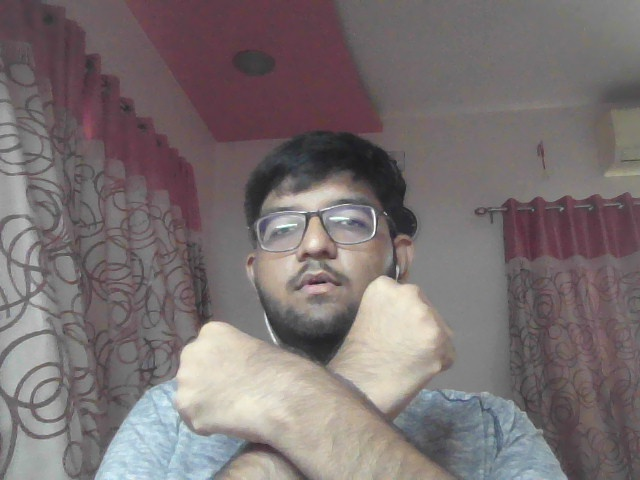પ્રેમ: (128, 269, 504, 480)
